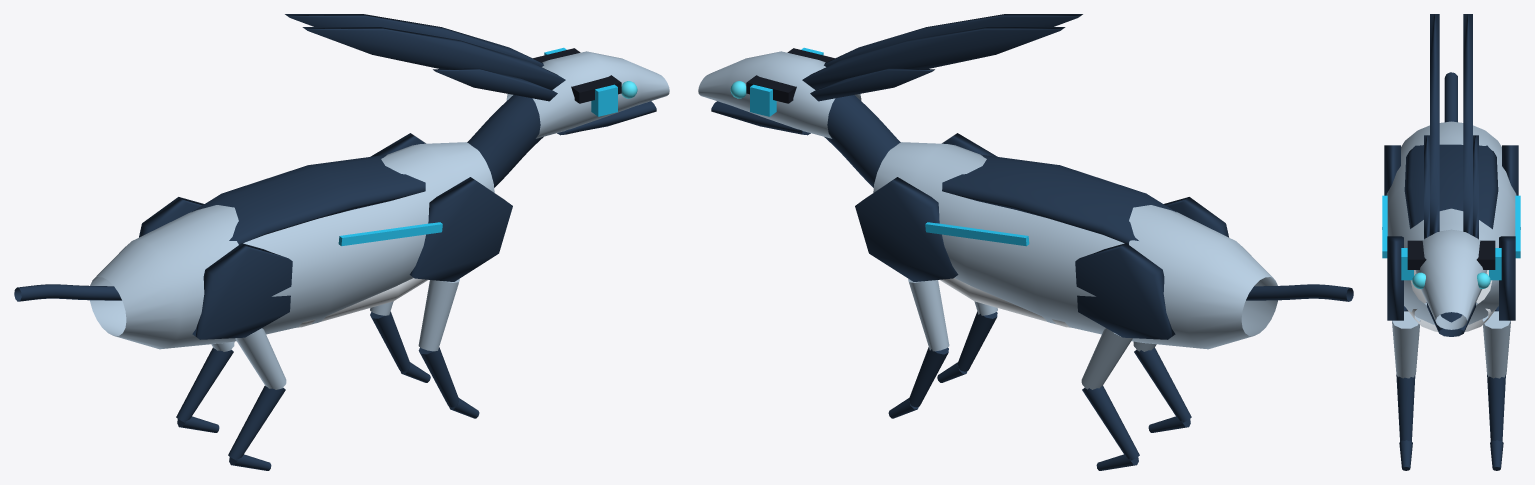
The model's file is evowild-s.obj.
The picture shows the model from 3 angles, left to right: view 1: azimuth 30°, elevation 25°; view 2: azimuth 150°, elevation 25°; view 3: azimuth 270°, elevation 25°; orthographic projection. The views are drawn at different scales.
Parts seen in each view (by area): view 1: body, dorsal_ridge, haunch_plate_1, shoulder_plate_1, horn_blade_1, head, neck, horn_blade_-1, secondary_horn_1, foreR_upper, hindR_upper, tail (+10 smaller); view 2: body, dorsal_ridge, haunch_plate_-1, shoulder_plate_-1, horn_blade_-1, head, neck, horn_blade_1, secondary_horn_-1, foreL_upper, hindL_upper, tail (+10 smaller); view 3: body, head, dorsal_ridge, horn_blade_-1, horn_blade_1, foreR_upper, foreL_upper, shoulder_plate_-1, shoulder_plate_1, foreR_lower, foreL_lower, cue_bridge (+15 smaller).
Part boxes in pixels (box(x1,y1,x2,y2)): body: box(90, 142, 494, 349); dorsal_ridge: box(191, 154, 425, 244); haunch_plate_1: box(192, 243, 292, 339); shoulder_plate_1: box(409, 177, 512, 281); horn_blade_1: box(302, 27, 565, 89); head: box(506, 51, 669, 138); neck: box(467, 95, 543, 187); horn_blade_-1: box(285, 14, 543, 66); secondary_horn_1: box(433, 68, 557, 101); foreR_upper: box(418, 279, 459, 351); hindR_upper: box(235, 328, 286, 389); tail: box(14, 284, 121, 301); body: box(873, 142, 1277, 349); dorsal_ridge: box(942, 154, 1176, 244); haunch_plate_-1: box(1075, 243, 1175, 339); shoulder_plate_-1: box(855, 177, 958, 281); horn_blade_-1: box(802, 27, 1065, 89); head: box(698, 51, 861, 138); neck: box(824, 95, 900, 187); horn_blade_1: box(824, 14, 1082, 66); secondary_horn_-1: box(810, 68, 934, 101); foreL_upper: box(908, 279, 949, 351); hindL_upper: box(1081, 328, 1132, 389); tail: box(1246, 284, 1353, 301); body: box(1382, 121, 1520, 324); head: box(1415, 229, 1487, 329); dorsal_ridge: box(1404, 144, 1498, 229); horn_blade_-1: box(1463, 14, 1472, 235); horn_blade_1: box(1430, 14, 1439, 235); foreR_upper: box(1392, 311, 1420, 378); foreL_upper: box(1482, 311, 1510, 378); shoulder_plate_-1: box(1499, 236, 1515, 320); shoulder_plate_1: box(1387, 236, 1403, 320); foreR_lower: box(1396, 374, 1415, 441); foreL_lower: box(1487, 374, 1505, 441); cue_bridge: box(1407, 240, 1495, 269).
Size of the model in its own units: 4.59 by 2.83 by 0.92.
